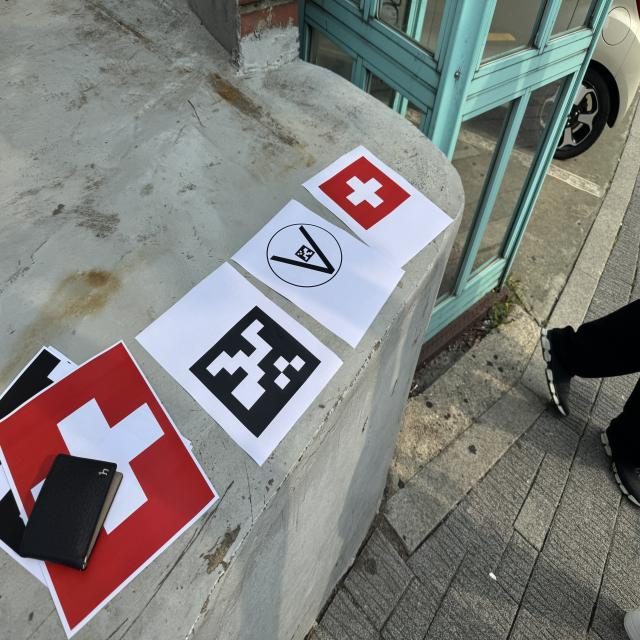ArUro mark: (184, 298, 326, 442)
rescue point: (312, 152, 417, 237)
vertiport: (256, 212, 346, 297)
